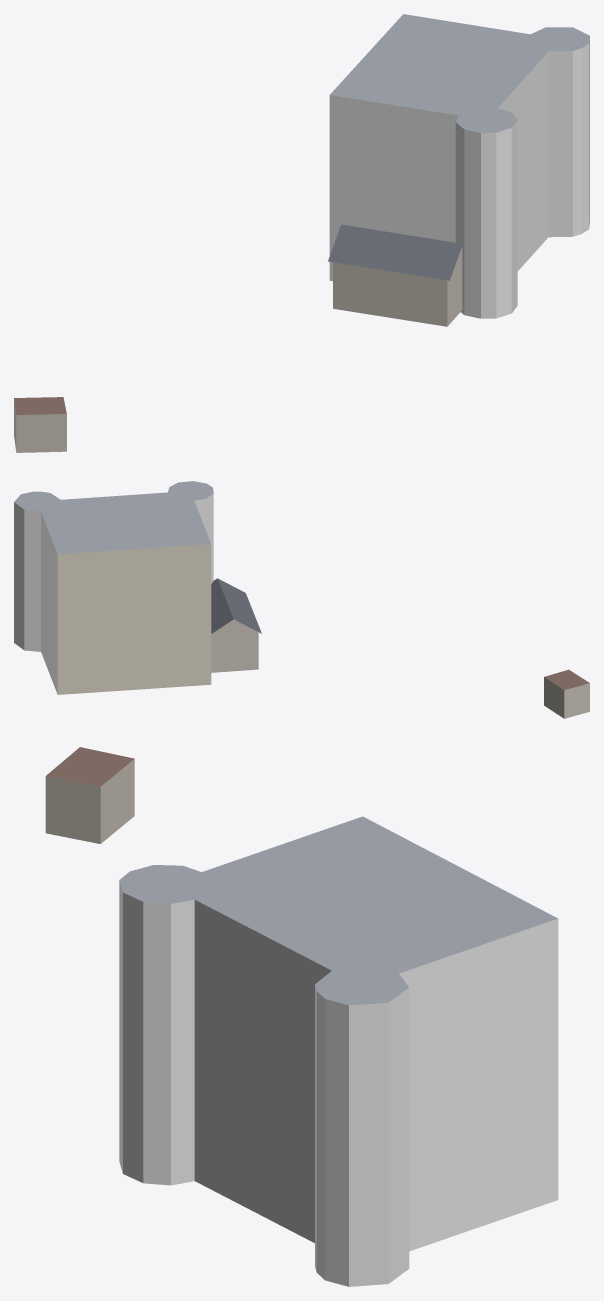
3 views of the same model, one above another, from view 1: azimuth 30°, elevation 25°; view 2: azimuth 150°, elevation 25°; view 3: azimuth 270°, elevation 25° (orthographic). The views are drawn at different scales.
Parts seen in each view (by area): view 1: tuile; view 2: tuile; view 3: tuile.
Part boxes in pixels (x1,y1,x2,y2): tuile: [14, 14, 589, 452]; tuile: [14, 481, 589, 718]; tuile: [45, 747, 558, 1286].
Bounding box in the file's own units: 67.6 × 18.58 × 29.9.
